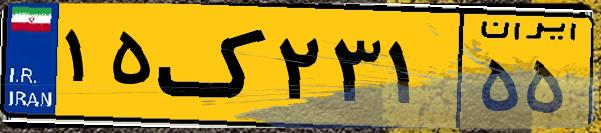1: (385, 28, 445, 110), (57, 26, 110, 100)
2: (270, 28, 330, 110)
3: (330, 28, 385, 110)
5: (475, 38, 525, 113), (525, 38, 570, 115), (110, 28, 158, 98)
ک: (158, 12, 270, 120)
